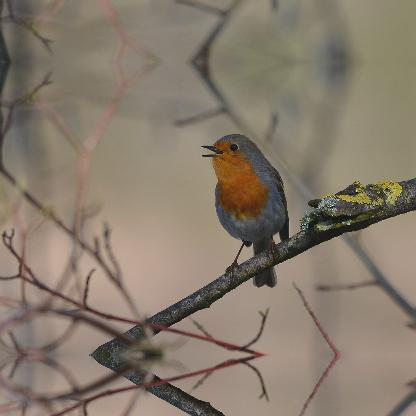Bird: (198, 130, 288, 288)
